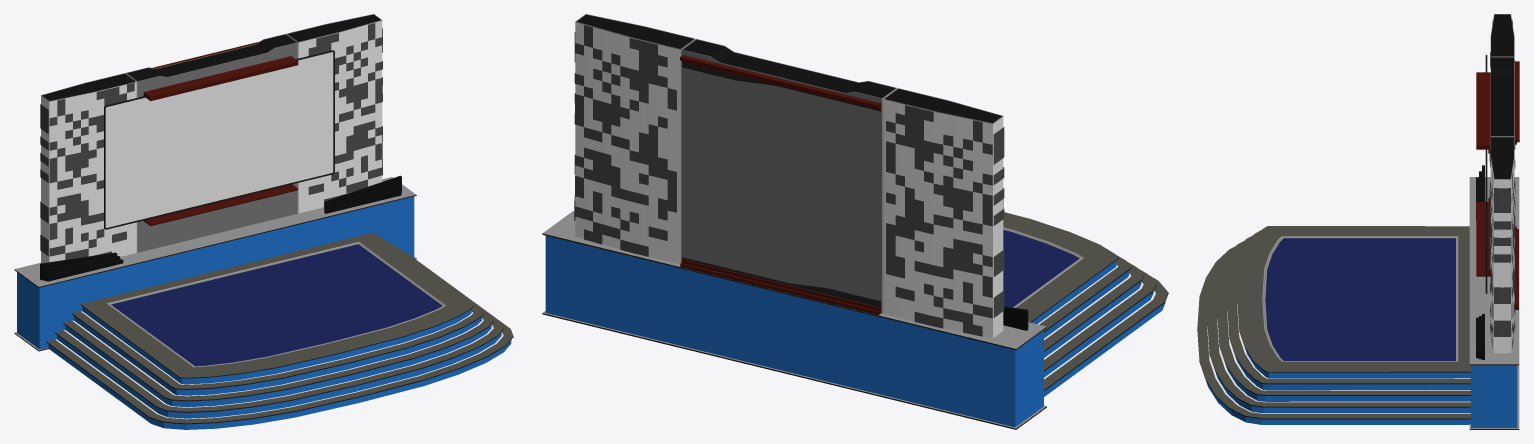
Rendered from W_O_Text_Board_01_L1.fbx.
3 views of the same model, side by side, from view 1: azimuth 30°, elevation 25°; view 2: azimuth 150°, elevation 25°; view 3: azimuth 270°, elevation 25° (orthographic). The views are drawn at different scales.
Parts seen in each view (by area): view 1: W_O_Text_Board_01_L1; view 2: W_O_Text_Board_01_L1; view 3: W_O_Text_Board_01_L1.
Boxes of the visible parts, box(x1,y1,x2,y2) form: W_O_Text_Board_01_L1: box(14, 14, 513, 429); W_O_Text_Board_01_L1: box(542, 14, 1168, 429); W_O_Text_Board_01_L1: box(1197, 14, 1519, 429).
Size of the model in its own units: 9.16 by 6.66 by 5.46.
